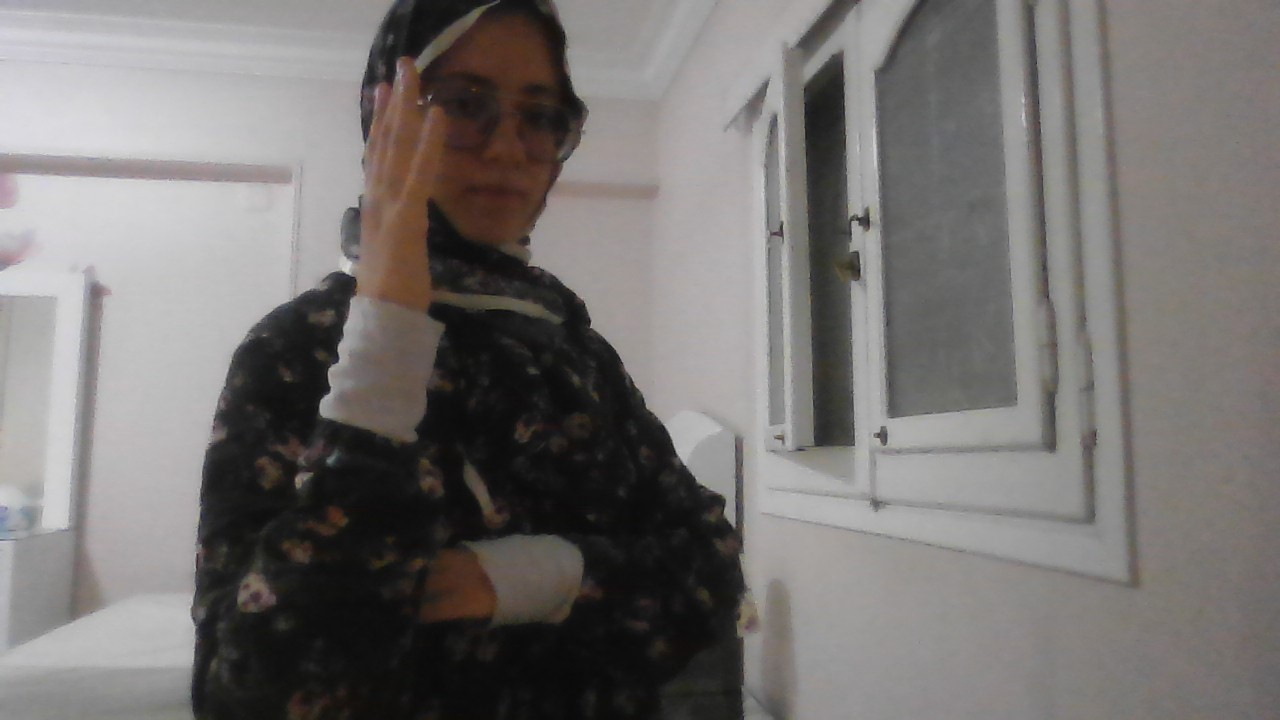morning: (352, 63, 526, 639)
